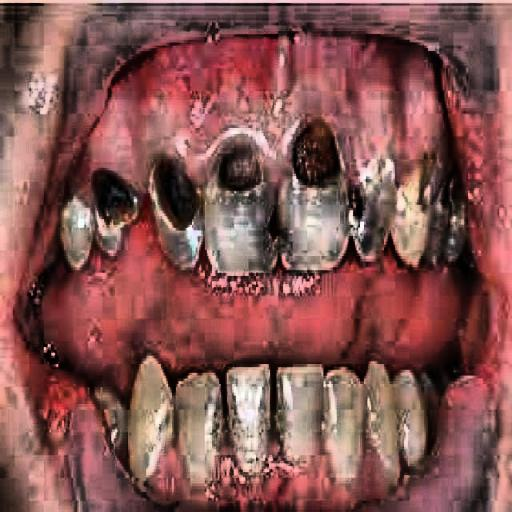Caries: (201, 106, 397, 222), (54, 154, 234, 253), (399, 131, 487, 243)
